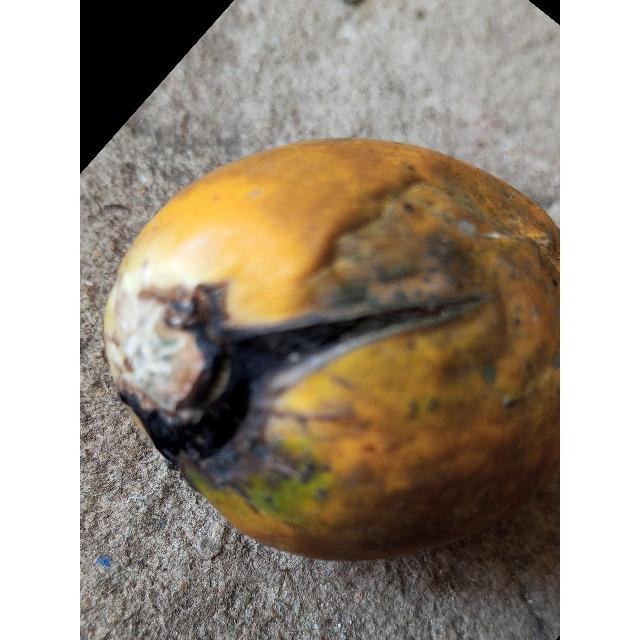damaged: (104, 139, 560, 560)
